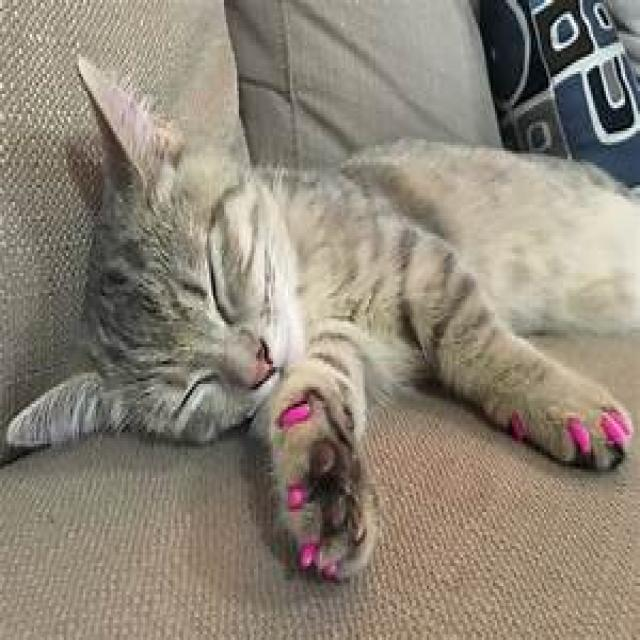KEDI: (6, 51, 640, 580)
